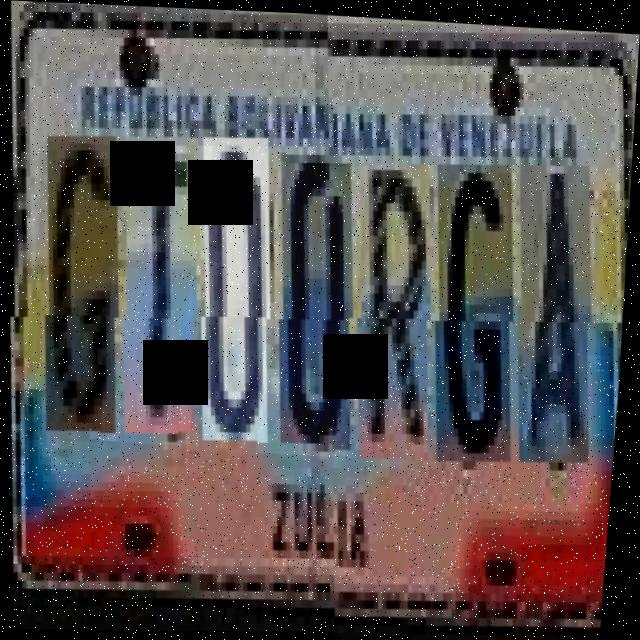0: (182, 143, 288, 453), (261, 159, 369, 454)
A: (499, 163, 608, 466)
G: (417, 161, 530, 465), (27, 140, 136, 443)
R: (339, 161, 448, 464)
T: (105, 141, 214, 445)
